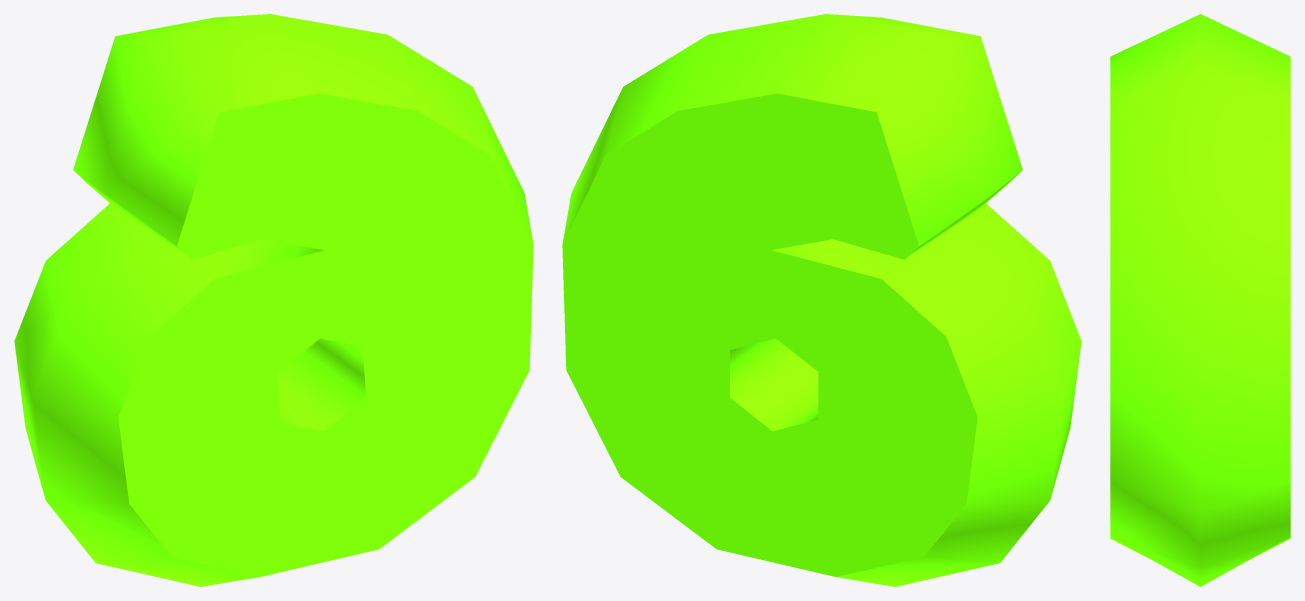
Rendered from green_6.glb.
3 views of the same model, side by side, from view 1: azimuth 30°, elevation 25°; view 2: azimuth 150°, elevation 25°; view 3: azimuth 270°, elevation 25° (orthographic). The views are drawn at different scales.
Visible parts, largest first — view 1: Green_6; view 2: Green_6; view 3: Green_6.
Part boxes in pixels (x1,y1,x2,y2): Green_6: (14,14,533,586); Green_6: (562,14,1081,586); Green_6: (1110,14,1290,586).
Size of the model in its own units: 0.4897 by 0.5365 by 0.179.
1 material, 1 textured.
